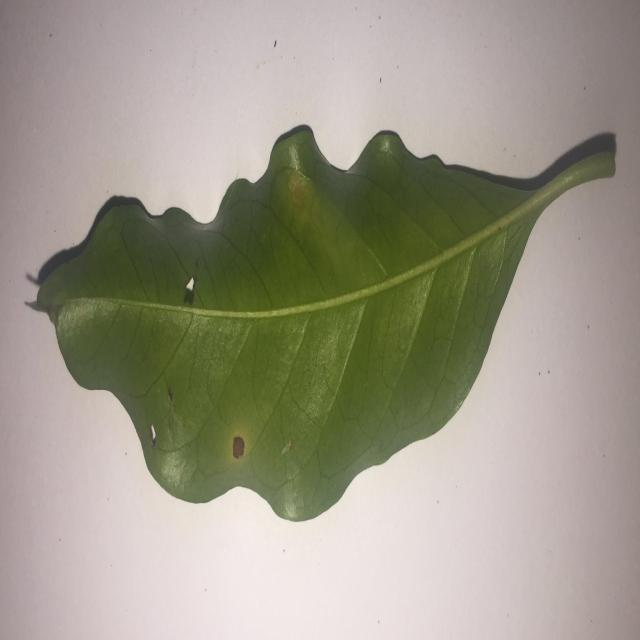Enfermedad-Mancha-de-hierro: (27, 125, 618, 526)
